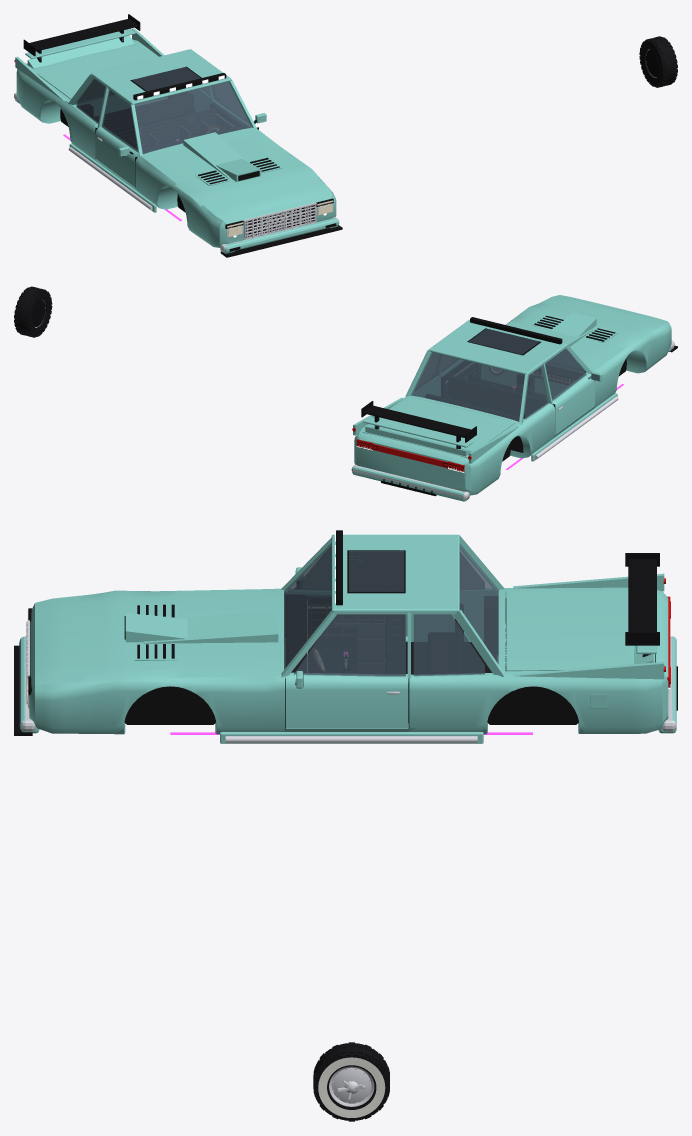
The model's file is MarloweDeville61.glb.
The picture shows the model from 3 angles, top to bottom: view 1: azimuth 30°, elevation 25°; view 2: azimuth 150°, elevation 25°; view 3: azimuth 270°, elevation 25°; orthographic projection. The views are drawn at different scales.
Parts seen in each view (by area): view 1: MarloweDeville61_PanelHood, MarloweDeville61_Glass, MarloweDeville61_PanelSideR, MarloweDeville61_Body, MarloweDeville61_PanelRoof, MarloweDeville61_Lid, MarloweDeville61_PanelDoorR, MarloweDeville61_OptSpoilerGTDark, MarloweDeville61_OptSeatsBucketsSeat, MarloweDeville61_RoofGlass__WinDoorR, MarloweDeville61_OptHoodCowlBody, MarloweDeville61Wheel_TireOffroadRubber (+22 smaller); view 2: MarloweDeville61_Body, MarloweDeville61_RoofGlass, MarloweDeville61_PanelSideR, MarloweDeville61_PanelHood, MarloweDeville61_PanelRoof, MarloweDeville61_Lid, MarloweDeville61_PanelDoorR, MarloweDeville61_OptSeatsDiamondSeat, MarloweDeville61_OptSpoilerGTDark, MarloweDeville61_RoofGlass__WinDoorR, MarloweDeville61Wheel_TireOffroadRubber, MarloweDeville61_OptTopSunroofDark (+18 smaller); view 3: MarloweDeville61_PanelSideL, MarloweDeville61_PanelHood, MarloweDeville61_Lid, MarloweDeville61_Body, MarloweDeville61_PanelRoof, MarloweDeville61_PanelDoorL, MarloweDeville61_RoofGlass, MarloweDeville61_RoofGlass__WinDoorL, MarloweDeville61_Under, MarloweDeville61_Glass, MarloweDeville61_Carpet, MarloweDeville61_RoofBody (+14 smaller).
Boxes of the visible parts, bbox=[...] form: MarloweDeville61_PanelHood: bbox=[141, 128, 333, 224]; MarloweDeville61_Glass: bbox=[134, 81, 251, 154]; MarloweDeville61_PanelSideR: bbox=[16, 69, 221, 247]; MarloweDeville61_Body: bbox=[15, 28, 336, 247]; MarloweDeville61_PanelRoof: bbox=[91, 49, 231, 104]; MarloweDeville61_Lid: bbox=[27, 42, 155, 99]; MarloweDeville61_PanelDoorR: bbox=[95, 126, 138, 186]; MarloweDeville61_OptSpoilerGTDark: bbox=[23, 14, 140, 62]; MarloweDeville61_OptSeatsBucketsSeat: bbox=[93, 94, 198, 148]; MarloweDeville61_RoofGlass__WinDoorR: bbox=[101, 89, 138, 152]; MarloweDeville61_OptHoodCowlBody: bbox=[183, 132, 246, 178]; MarloweDeville61Wheel_TireOffroadRubber: bbox=[639, 36, 677, 87]; MarloweDeville61_Body: bbox=[353, 350, 646, 493]; MarloweDeville61_RoofGlass: bbox=[411, 352, 548, 421]; MarloweDeville61_PanelSideR: bbox=[464, 323, 671, 495]; MarloweDeville61_PanelHood: bbox=[506, 295, 669, 371]; MarloweDeville61_PanelRoof: bbox=[428, 320, 567, 374]; MarloweDeville61_Lid: bbox=[362, 397, 514, 458]; MarloweDeville61_PanelDoorR: bbox=[552, 372, 594, 433]; MarloweDeville61_OptSeatsDiamondSeat: bbox=[448, 376, 546, 414]; MarloweDeville61_OptSpoilerGTDark: bbox=[361, 401, 476, 448]; MarloweDeville61_RoofGlass__WinDoorR: bbox=[545, 348, 586, 400]; MarloweDeville61Wheel_TireOffroadRubber: bbox=[14, 286, 52, 337]; MarloweDeville61_OptTopSunroofDark: bbox=[467, 328, 540, 355]; MarloweDeville61_PanelSideL: bbox=[35, 675, 668, 734]; MarloweDeville61_PanelHood: bbox=[30, 588, 282, 690]; MarloweDeville61_Lid: bbox=[506, 589, 654, 671]; MarloweDeville61_Body: bbox=[29, 573, 668, 733]; MarloweDeville61_PanelRoof: bbox=[331, 534, 459, 612]; MarloweDeville61_PanelDoorL: bbox=[286, 672, 408, 727]; MarloweDeville61_RoofGlass: bbox=[413, 543, 498, 676]; MarloweDeville61_RoofGlass__WinDoorL: bbox=[294, 614, 405, 676]; MarloweDeville61_Under: bbox=[124, 598, 655, 724]; MarloweDeville61_Glass: bbox=[284, 543, 331, 669]; MarloweDeville61_Carpet: bbox=[316, 596, 497, 722]; MarloweDeville61_RoofBody: bbox=[281, 535, 504, 678].
Bounding box in the file's own units: 35.18 × 7.17 × 23.06.
